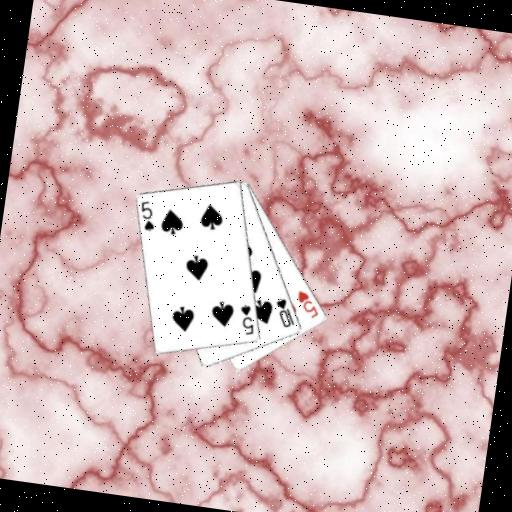10S: (270, 295, 300, 331)
5H: (292, 288, 323, 321)
5S: (234, 301, 259, 338), (135, 197, 160, 234)
